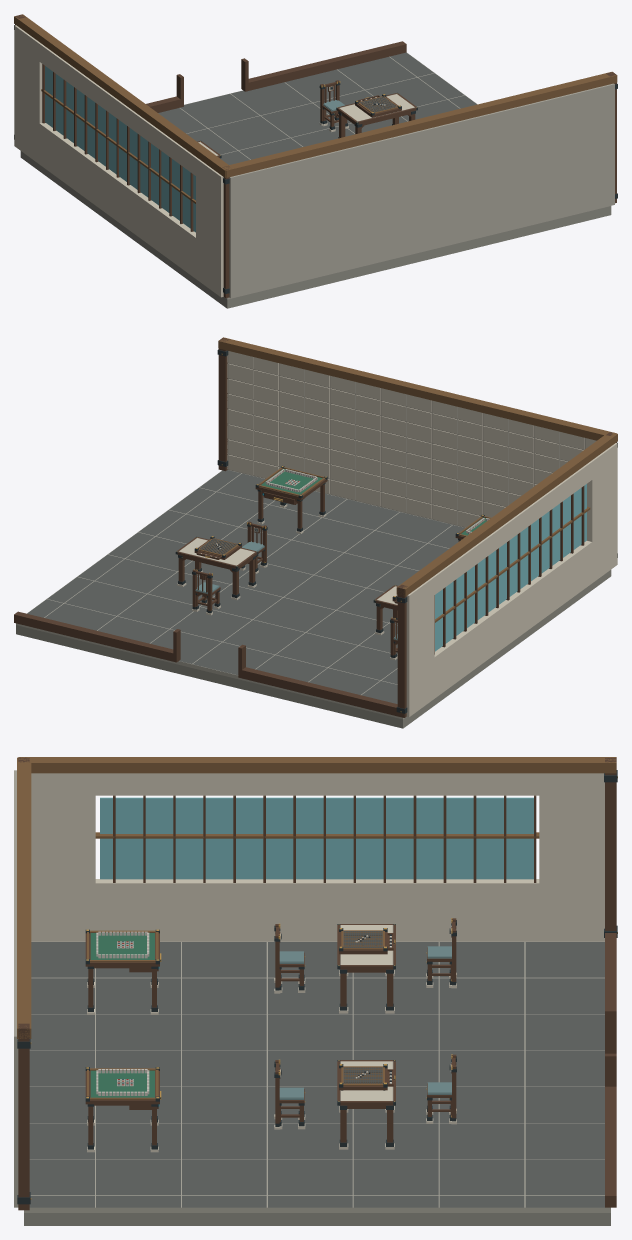
The model's file is visual-far.glb.
3 views of the same model, one above another, from view 1: azimuth 30°, elevation 25°; view 2: azimuth 150°, elevation 25°; view 3: azimuth 270°, elevation 25° (orthographic). The views are drawn at different scales.
Visible parts, largest first — view 1: 真实窗洞、木梁与切角房间墙, 分层实心台基与独立石铺面, 餐桌桌架, 餐椅, 棋盘与棋具; view 2: 真实窗洞、木梁与切角房间墙, 分层实心台基与独立石铺面, 餐桌桌架 (×2), 游艺桌/娱乐设备 · 独立光学用途, 餐椅 (×2), 棋盘与棋具; view 3: 分层实心台基与独立石铺面, 真实窗洞、木梁与切角房间墙, 游艺桌/娱乐设备 · 独立光学用途 (×2), 餐椅 (×4), 餐桌桌架 (×2), 棋盘与棋具 (×2).
Part boxes in pixels (x1,y1,x2,y2): 真实窗洞、木梁与切角房间墙: (14, 14, 617, 298); 分层实心台基与独立石铺面: (20, 52, 611, 308); 餐桌桌架: (336, 92, 417, 138); 餐椅: (319, 80, 348, 132); 棋盘与棋具: (355, 94, 401, 117); 真实窗洞、木梁与切角房间墙: (14, 337, 617, 717); 分层实心台基与独立石铺面: (16, 470, 611, 728); 餐桌桌架 (×2): (175, 536, 397, 635); 游艺桌/娱乐设备 · 独立光学用途: (255, 465, 327, 533); 餐椅 (×2): (192, 521, 267, 615); 棋盘与棋具: (194, 536, 241, 559); 分层实心台基与独立石铺面: (24, 941, 610, 1225); 真实窗洞、木梁与切角房间墙: (14, 757, 617, 1210); 游艺桌/娱乐设备 · 独立光学用途 (×2): (85, 929, 161, 1152); 餐椅 (×4): (274, 918, 456, 1129); 餐桌桌架 (×2): (337, 924, 395, 1149); 棋盘与棋具 (×2): (339, 928, 395, 1090).
Bounding box in the file's own units: 9.04 × 3.08 × 8.44.
Materials: 21 (21 with a texture image).
